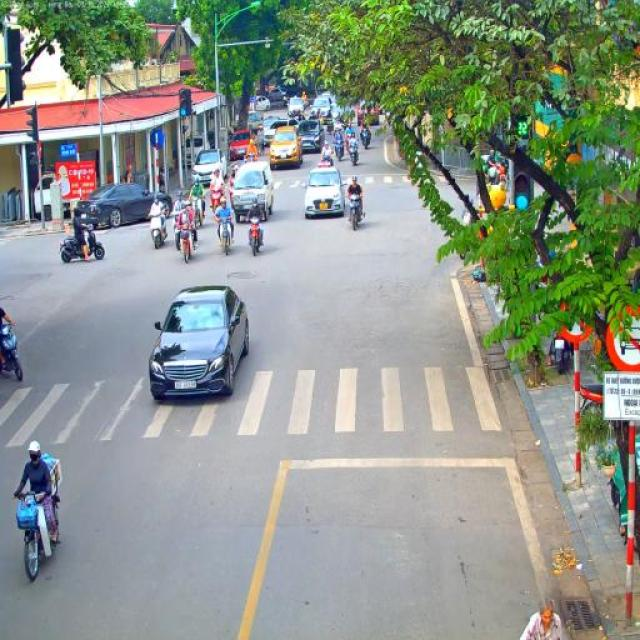car: (148, 285, 250, 404), (72, 182, 172, 229), (302, 164, 348, 218), (190, 149, 228, 190), (269, 126, 303, 170), (296, 118, 324, 154), (228, 130, 254, 164), (262, 116, 288, 145), (311, 96, 333, 120), (267, 85, 287, 106), (248, 96, 272, 112), (287, 96, 304, 118), (322, 92, 337, 112), (285, 114, 303, 127)
motorcycle: (11, 490, 60, 582), (60, 221, 106, 264), (0, 323, 24, 382), (552, 330, 572, 376), (177, 222, 196, 264), (245, 216, 264, 256), (578, 383, 604, 412), (214, 216, 232, 255), (346, 194, 364, 231), (489, 162, 510, 192), (149, 214, 166, 248), (172, 211, 183, 250), (209, 188, 222, 216), (192, 198, 204, 228), (349, 145, 360, 166), (334, 140, 344, 162), (362, 128, 372, 150), (324, 116, 334, 135), (229, 177, 236, 201), (322, 152, 332, 168), (256, 138, 264, 156), (247, 152, 257, 163)
truck: (230, 159, 275, 223), (184, 136, 206, 163)
